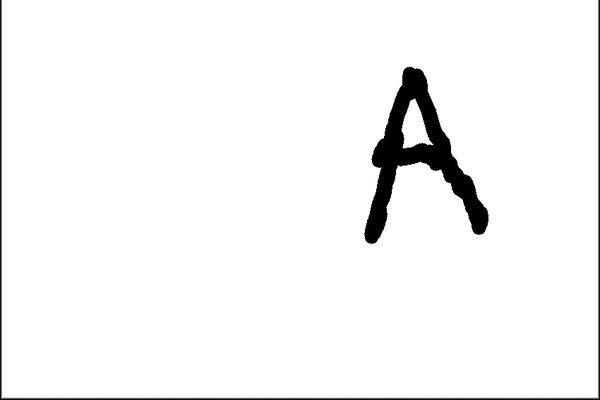A: (348, 58, 505, 255)
